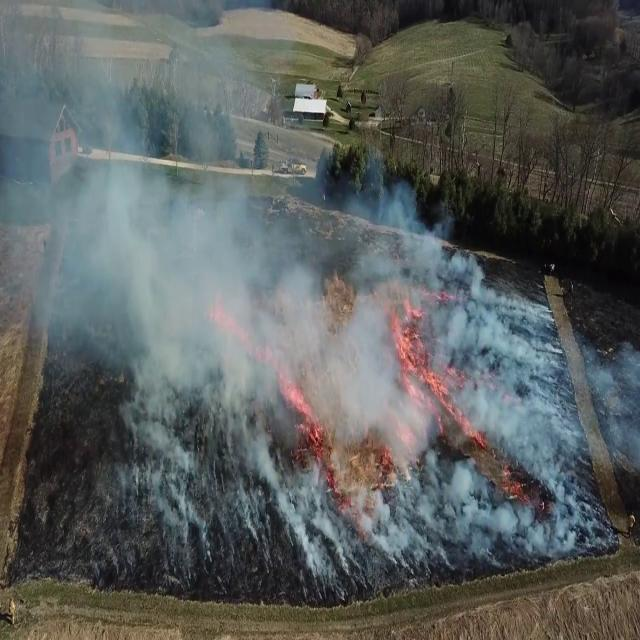Smoke: (6, 74, 498, 573)
